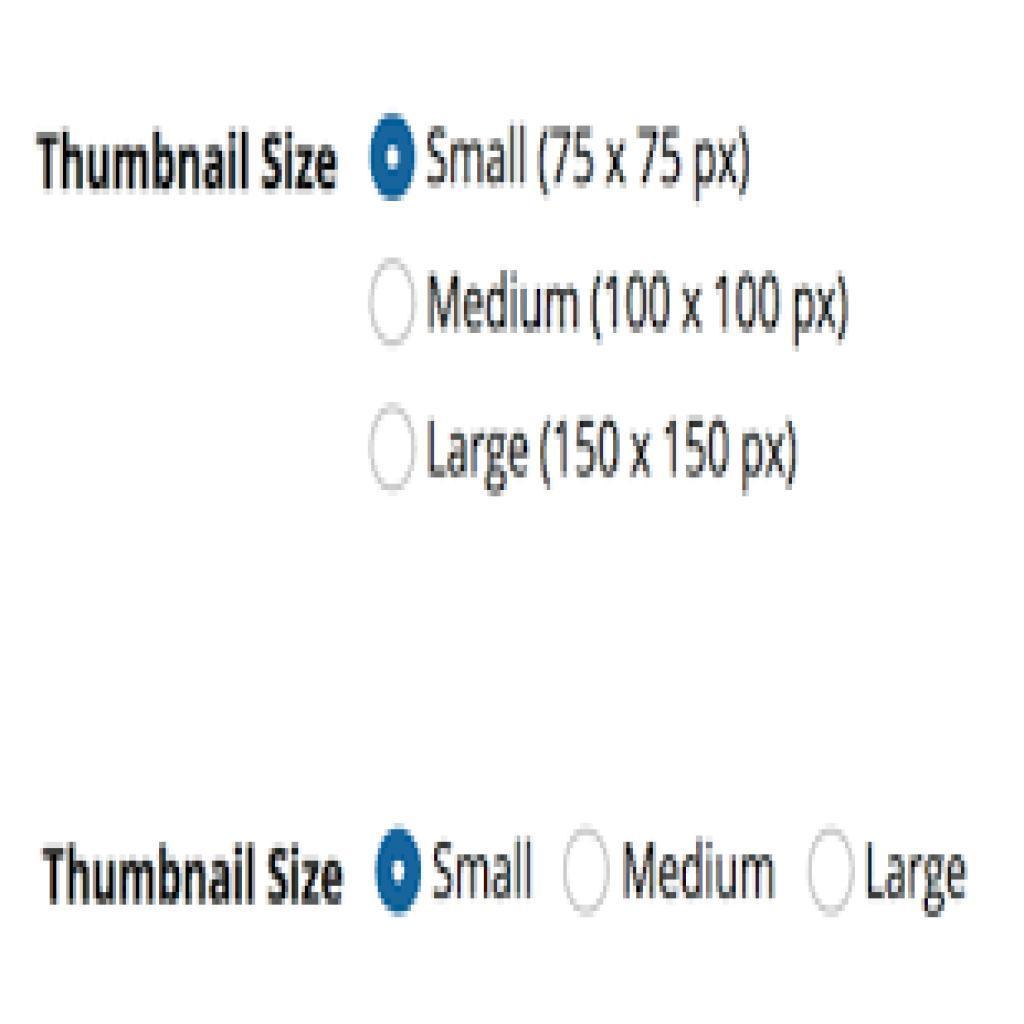radio: (561, 809, 613, 930), (368, 389, 421, 506), (368, 95, 420, 209), (370, 813, 428, 915), (807, 812, 856, 926), (369, 253, 418, 357)
